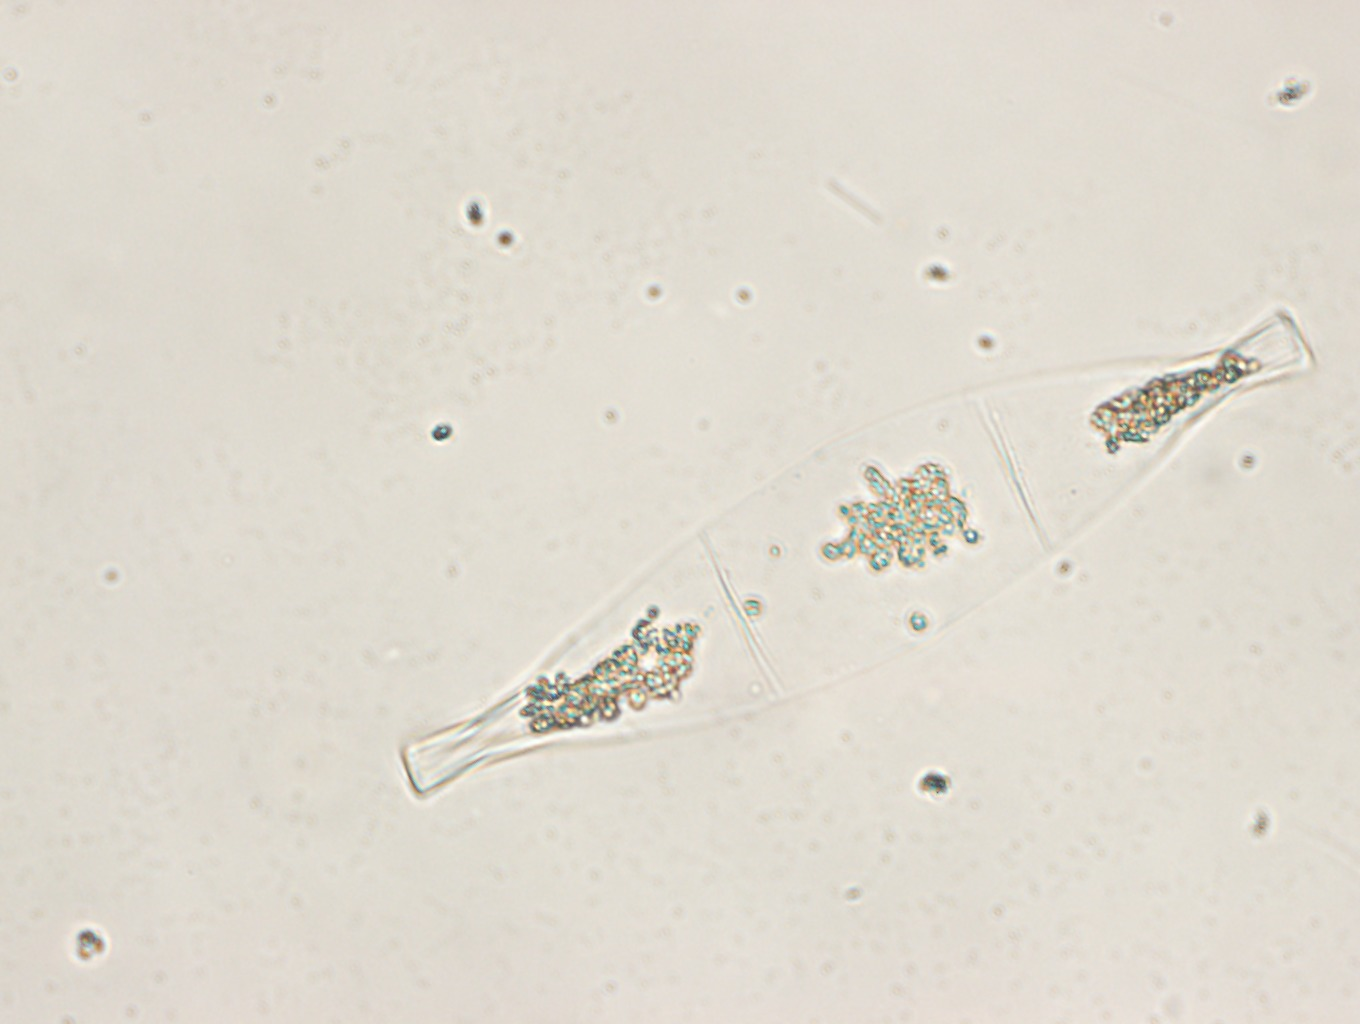helicotheca: (403, 311, 1325, 799)
